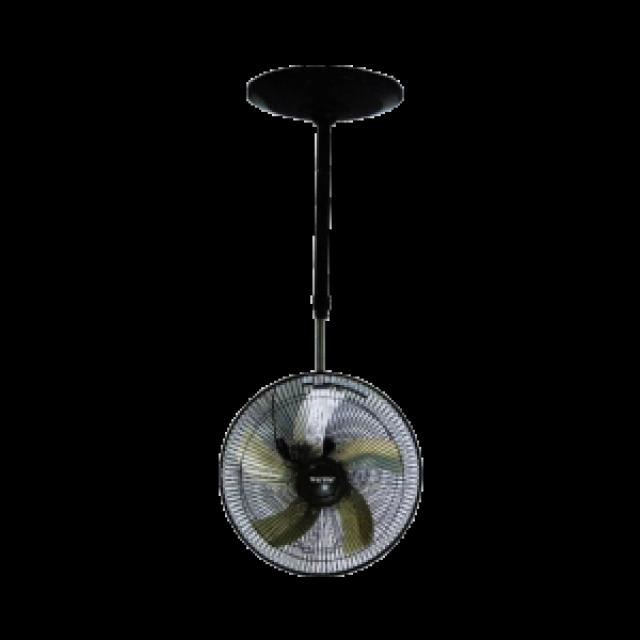fan: (213, 66, 420, 578)
